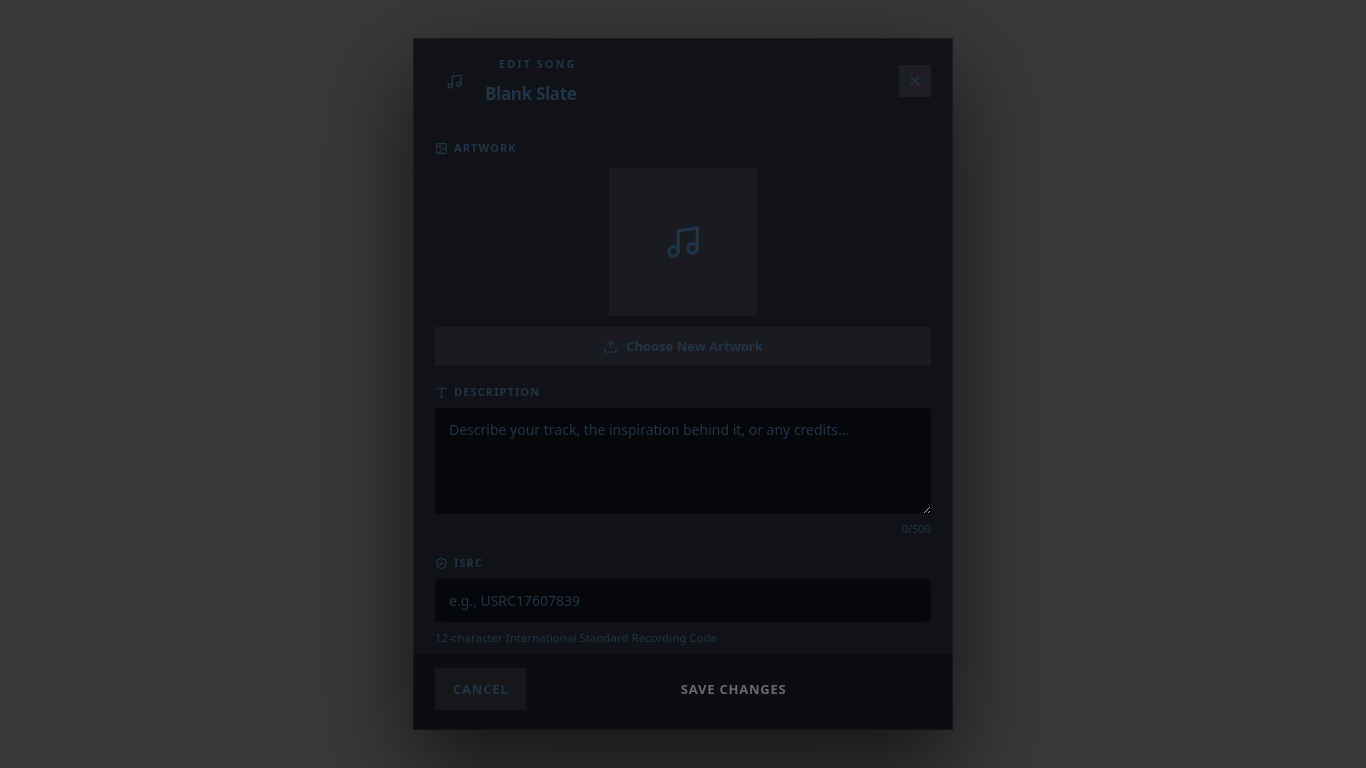
Test case: EditSongWizard — description › updates the textarea and counter as the user types
In the text box with placeholder "Describe your track": (683, 461) [435,408,931,514], type "Late night vibes"
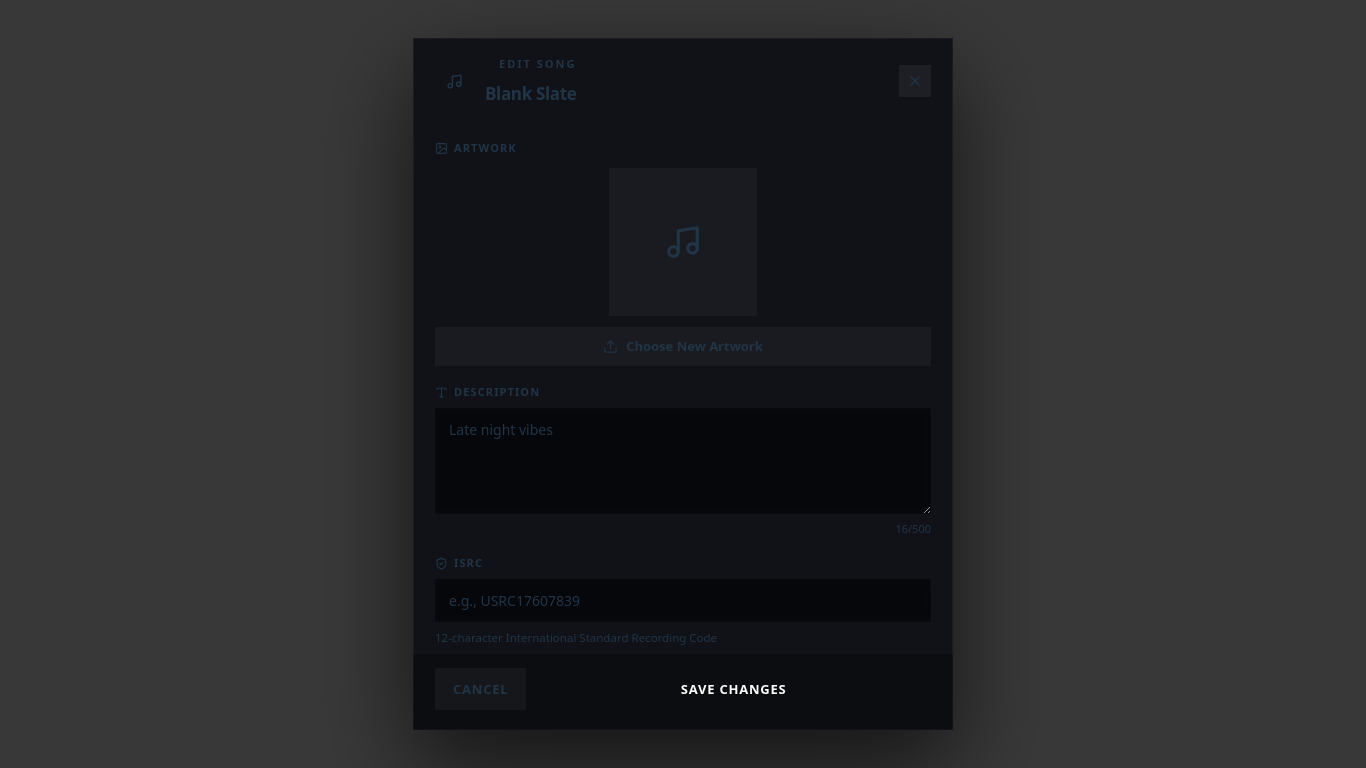
Expected: the text "16/500" is shown, [895,521,931,536]
